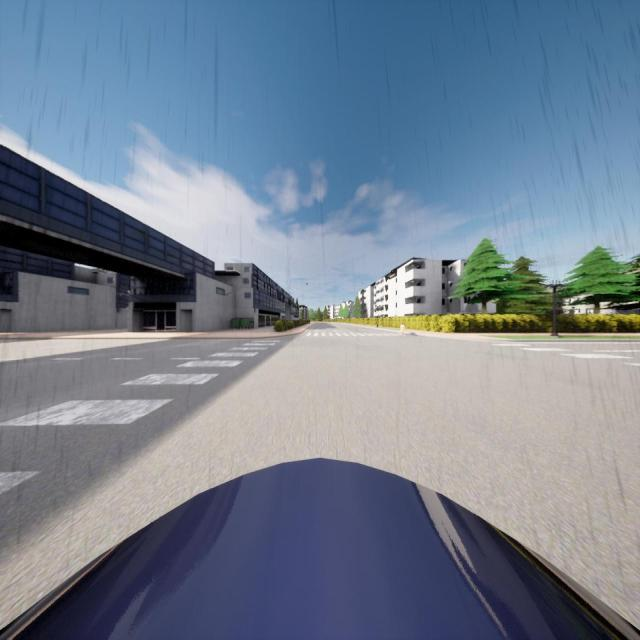Pedestrian: (398, 321, 406, 338)
Vehicle: (0, 458, 640, 640)
